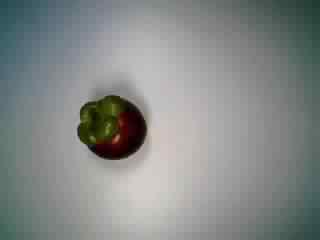mangosteen: (69, 90, 147, 166)
